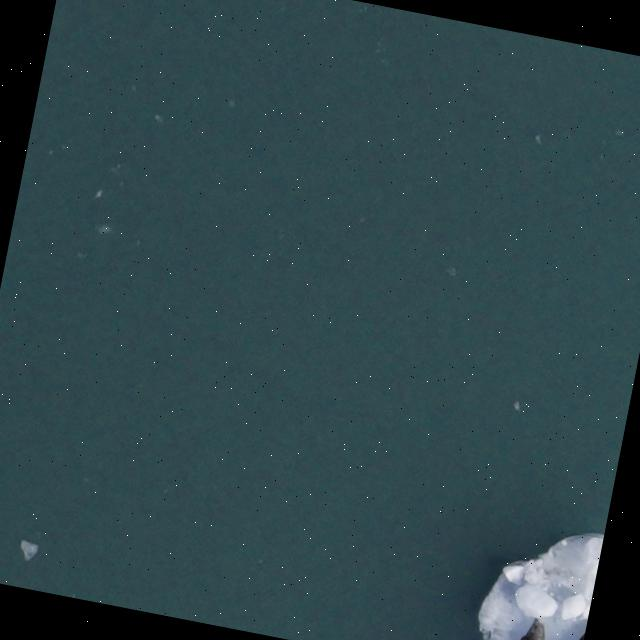seal: (517, 612, 553, 640)
